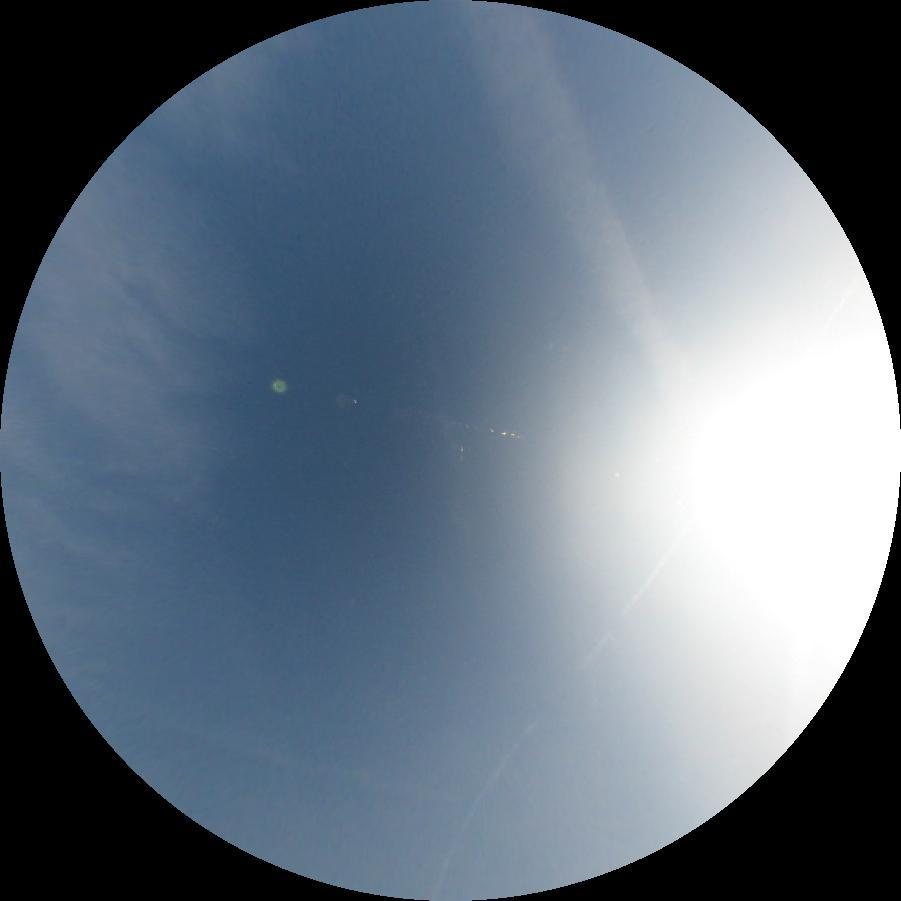contrail veryold: (446, 0, 708, 442)
